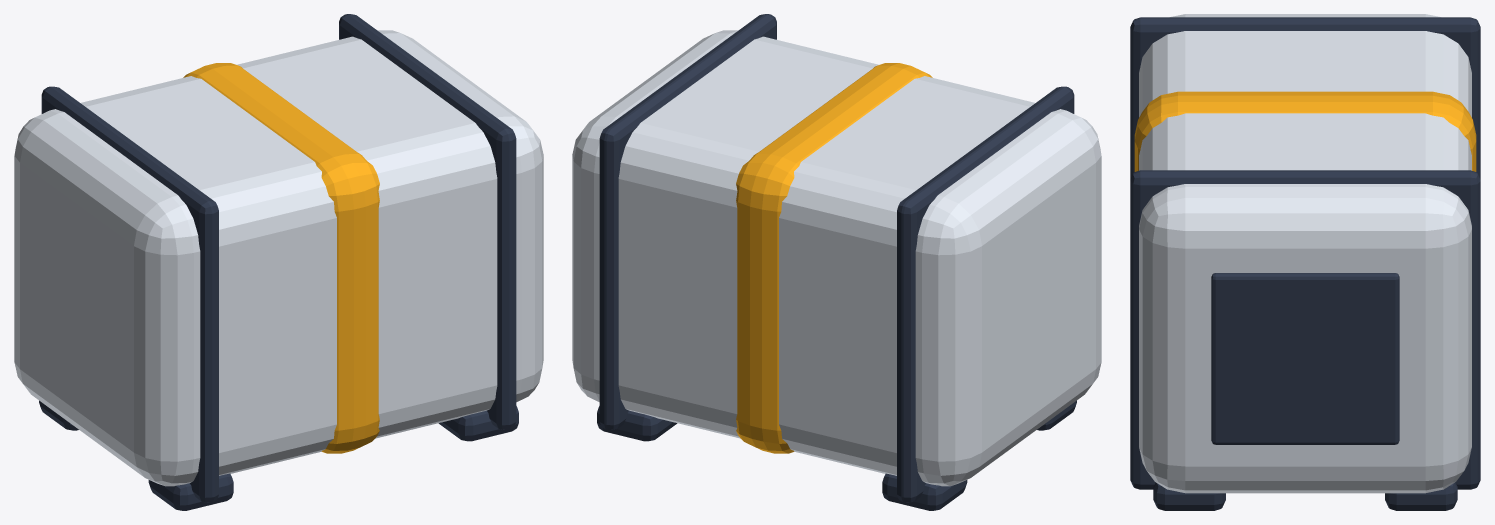
File: cargo_pod.glb
3 renders of one model, left to right at view 1: azimuth 30°, elevation 25°; view 2: azimuth 150°, elevation 25°; view 3: azimuth 270°, elevation 25°, orthographic. The views are drawn at different scales.
Visible parts, largest first — view 1: cargo_pod; view 2: cargo_pod; view 3: cargo_pod.
Part boxes in pixels (<box>): cargo_pod: <box>14,14,543,510</box>; cargo_pod: <box>572,14,1101,510</box>; cargo_pod: <box>1130,14,1480,510</box>.
Size of the model in its own units: 3.46 by 2.53 by 2.42.
